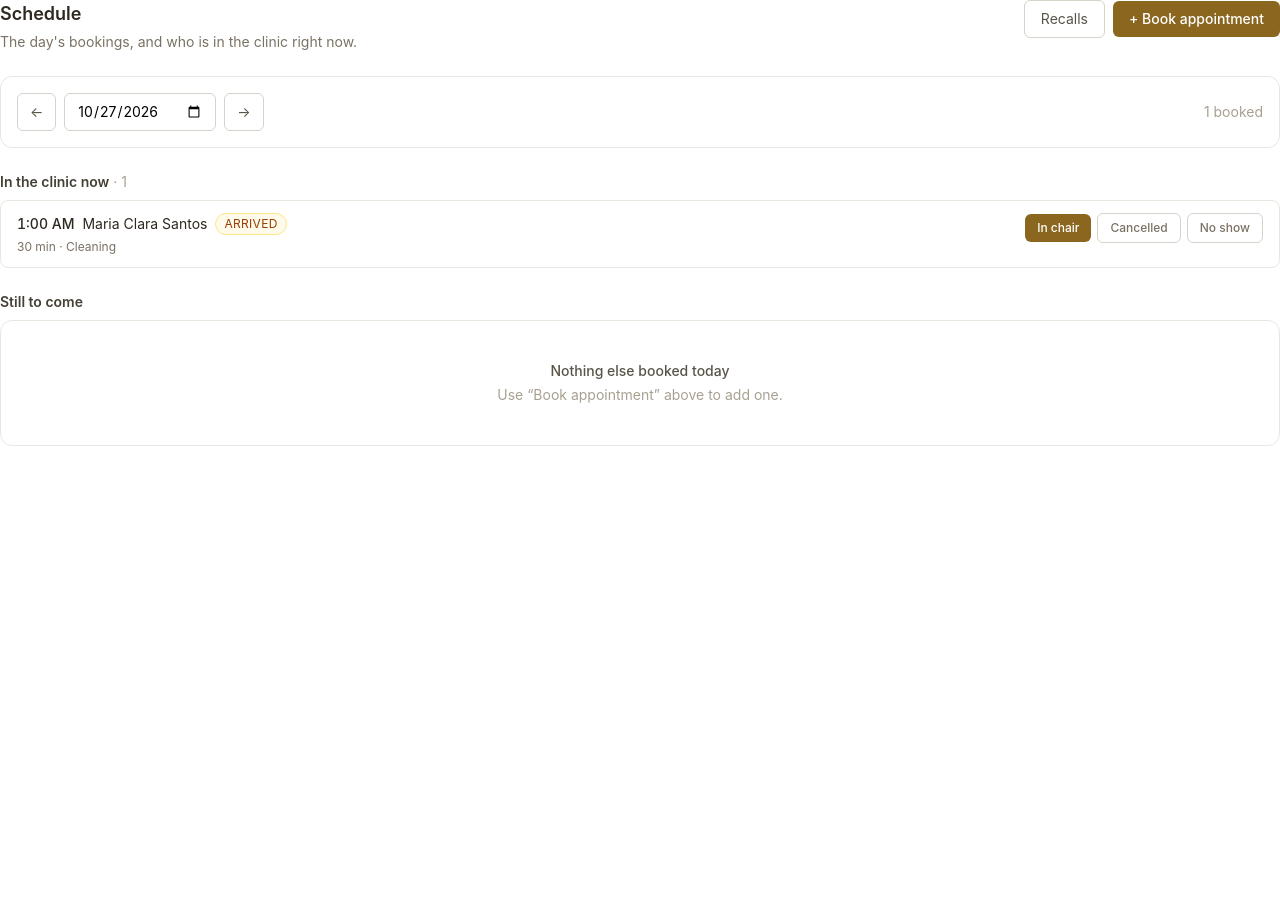
Test: SchedulePage › starts on the dentist the appointment was booked with
This screenshot has width=1280, height=900.
What coordinates should you click on to do the following:
click the button "In chair"
I would click on:
 (1058, 228)
Its box is [1025,214,1092,242].
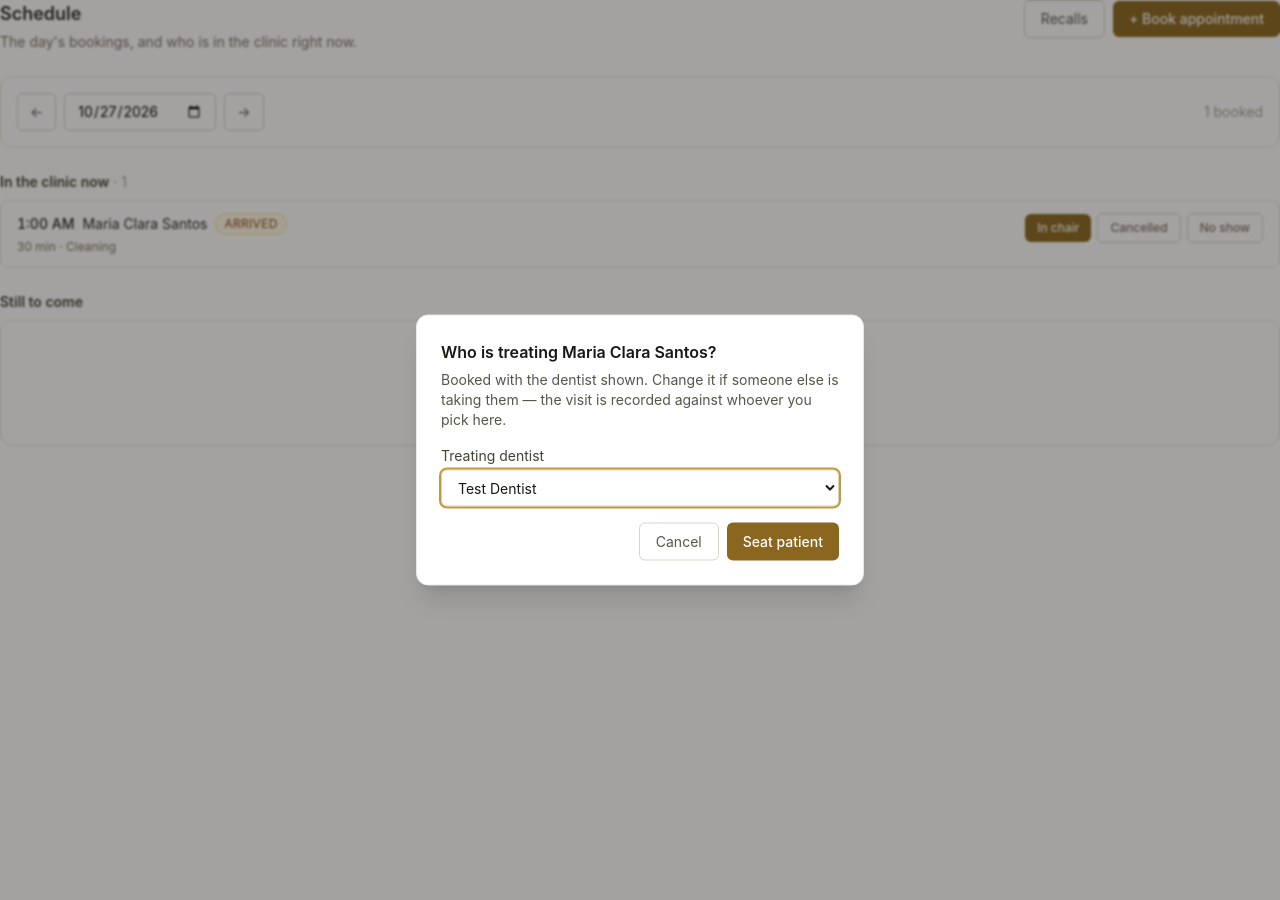
expect the dropdown labelled "Treating dentist" shows "Test Dentist": met, box [441,470,839,506]
